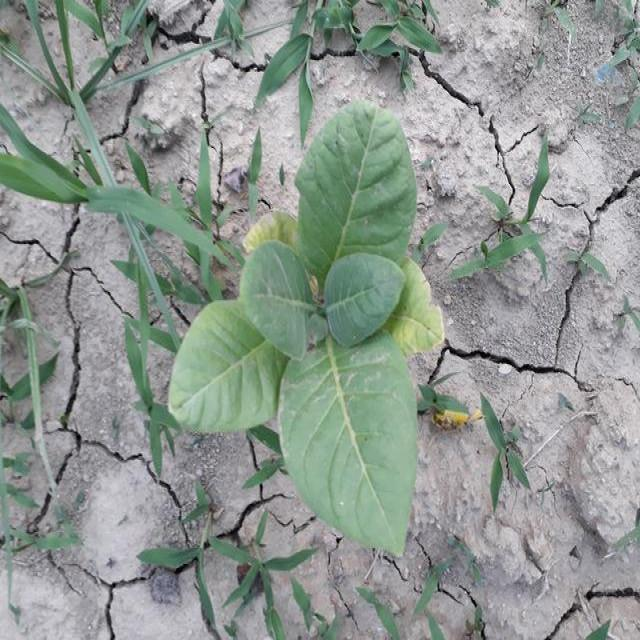crop: (166, 101, 448, 561)
